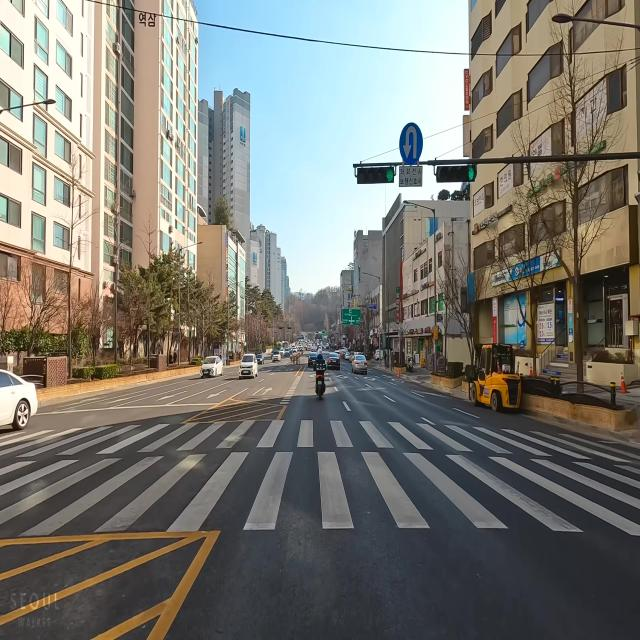Green Light: (386, 167, 394, 183), (468, 166, 476, 182)
